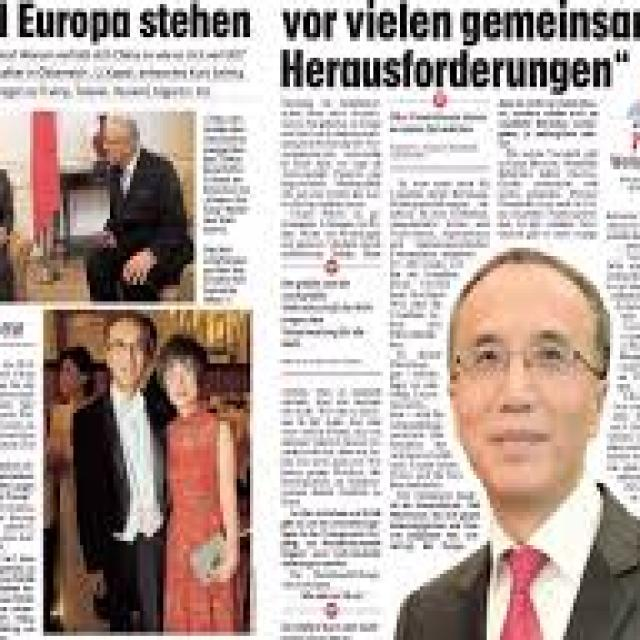organic: (9, 18, 631, 633)
